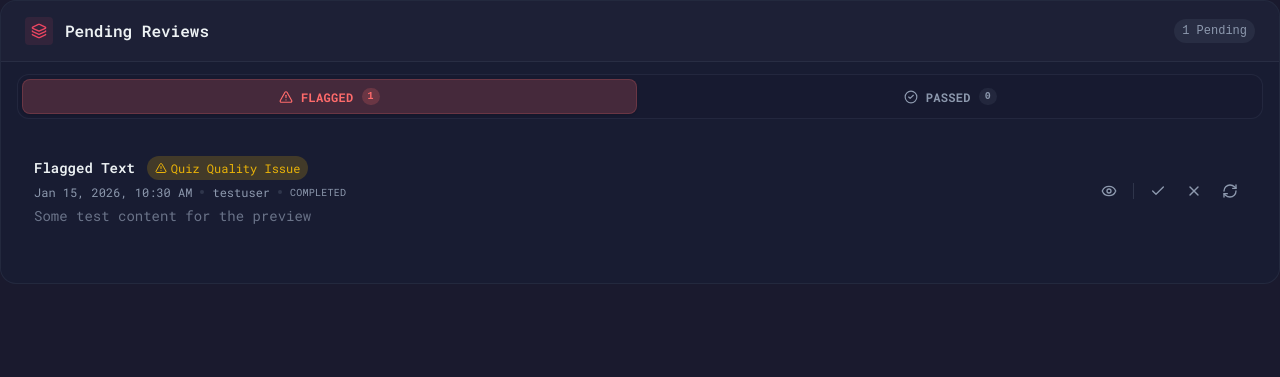
ApprovalsList › empty states › should show passed empty state when all texts are flagged
The width and height of the screenshot is (1280, 377).
Click the button "Passed 0" at (950, 97), box [643,79,1258,114]
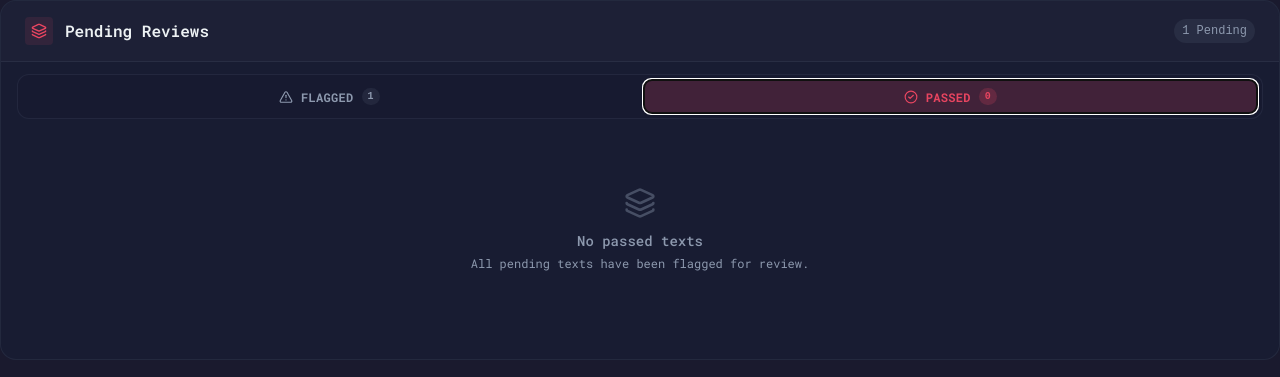
expect the text "No passed texts" is shown: met, box [577,231,703,251]
expect the text "All pending texts have been flagged for review." is shown: met, box [471,255,809,271]
